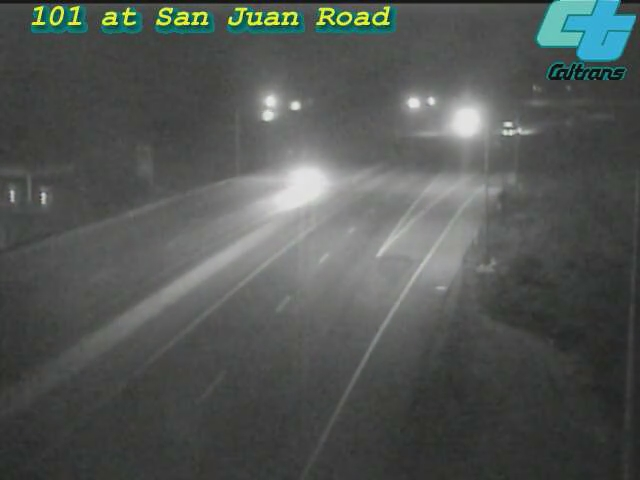vehicle: (261, 143, 341, 223), (443, 96, 493, 146), (487, 103, 537, 153)
